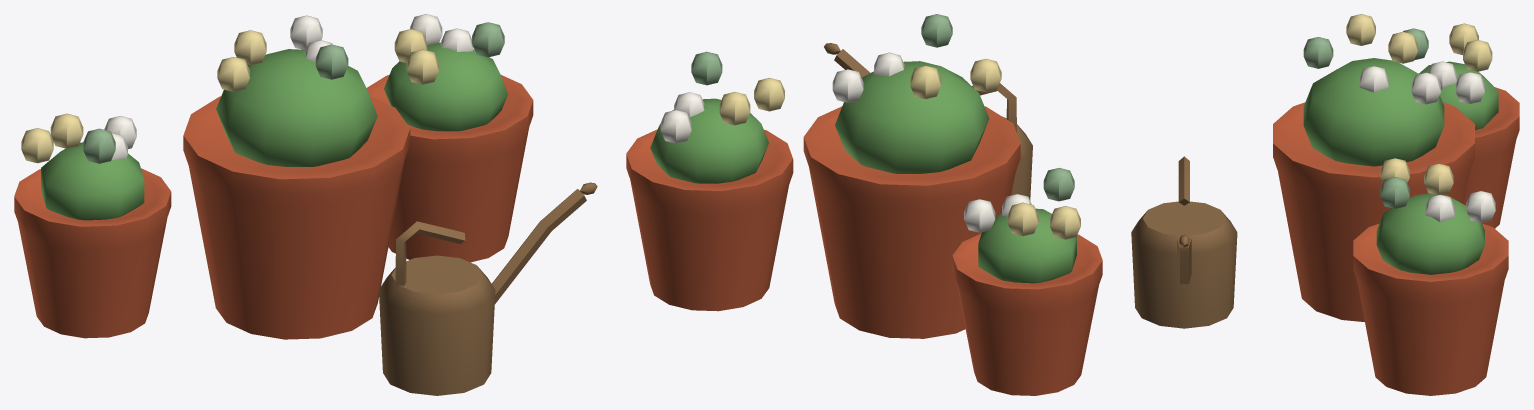
File: garden_pots_can.glb
3 renders of one model, left to right at view 1: azimuth 30°, elevation 25°; view 2: azimuth 150°, elevation 25°; view 3: azimuth 270°, elevation 25°, orthographic. The views are drawn at different scales.
Parts seen in each view (by area): view 1: garden_pots_can; view 2: garden_pots_can; view 3: garden_pots_can.
Part boxes in pixels (<box>): garden_pots_can: <box>14,14,597,395</box>; garden_pots_can: <box>626,14,1102,395</box>; garden_pots_can: <box>1131,14,1519,395</box>.
Bounding box in the file's own units: 1.35 × 0.746 × 1.02.
